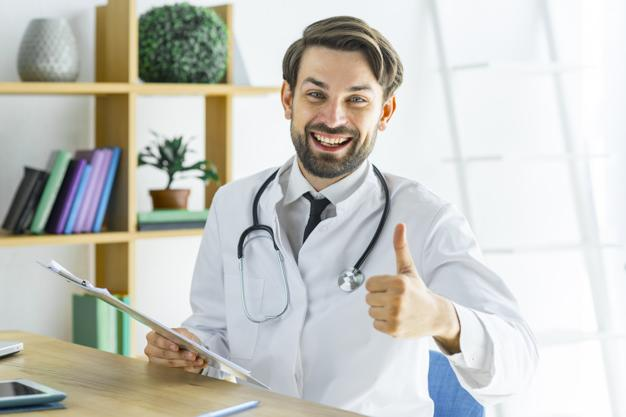thumbsup: (366, 223, 414, 336)
